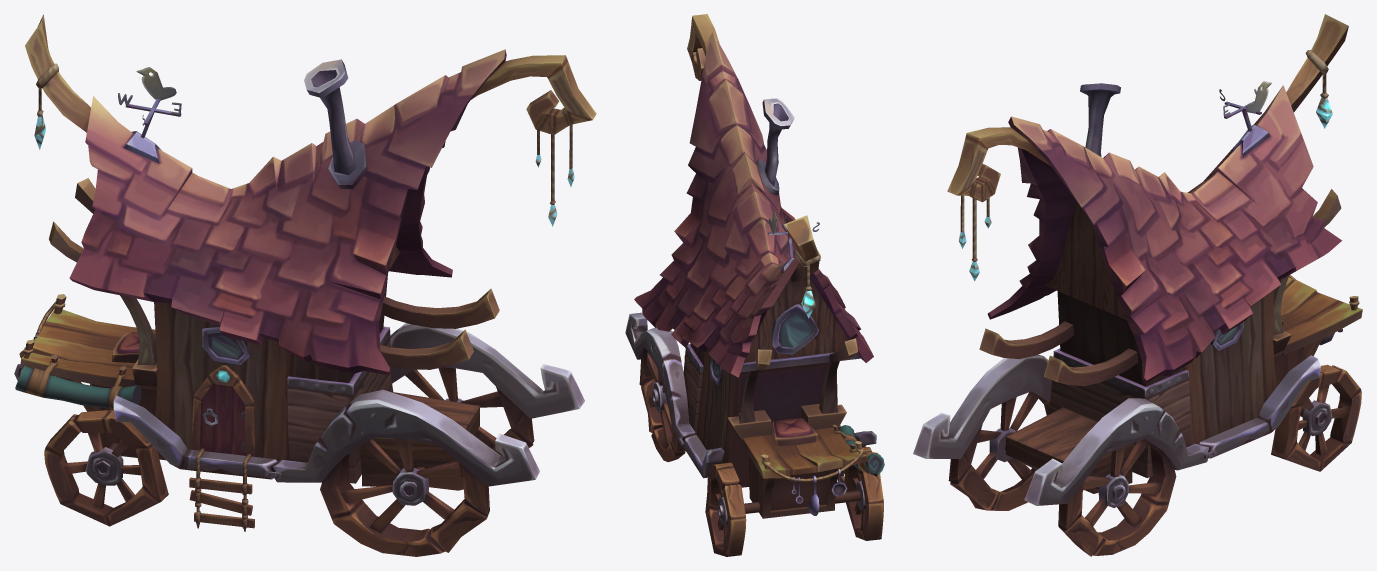
Rendered from wagon.glb.
The picture shows the model from 3 angles, left to right: view 1: azimuth 30°, elevation 25°; view 2: azimuth 150°, elevation 25°; view 3: azimuth 270°, elevation 25°; orthographic projection. The views are drawn at different scales.
Parts seen in each view (by area): view 1: WagonAlfa_WagonAlfa_0.001; view 2: WagonAlfa_WagonAlfa_0.001; view 3: WagonAlfa_WagonAlfa_0.001.
Part boxes in pixels (bbox=[...]): WagonAlfa_WagonAlfa_0.001: bbox=[14, 14, 596, 556]; WagonAlfa_WagonAlfa_0.001: bbox=[625, 14, 884, 556]; WagonAlfa_WagonAlfa_0.001: bbox=[913, 14, 1362, 556].
Bounding box in the file's own units: 2.89 × 2.97 × 2.8.
2 materials, 2 textured.
